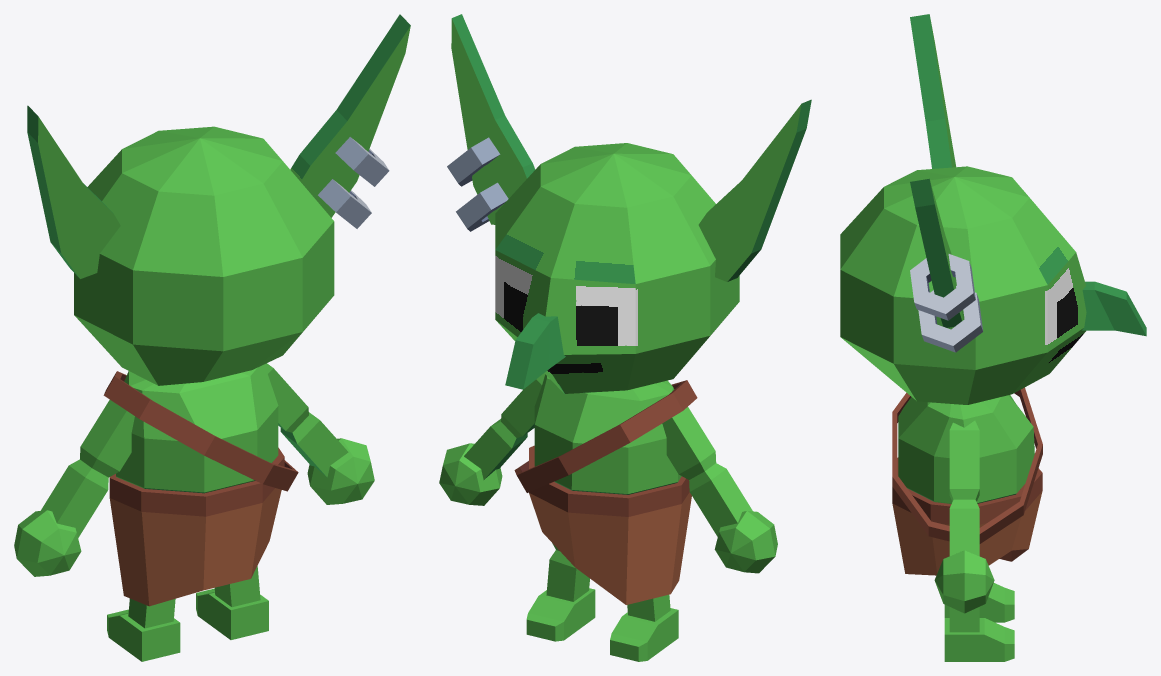
The model's file is goblin.gltf.
3 renders of one model, left to right at view 1: azimuth 30°, elevation 25°; view 2: azimuth 150°, elevation 25°; view 3: azimuth 270°, elevation 25°, orthographic. The views are drawn at different scales.
Visible parts, largest first — view 1: sphere (×4), skirt, cuboid (×8), cylinder (×2), belt, tube (×2); view 2: sphere (×4), cuboid (×9), cylinder (×2), skirt, belt, tube (×2); view 3: sphere (×3), cuboid (×6), cylinder (×2), skirt, tube (×2), belt.
Boxes of the visible parts, bbox=[...] form: sphere (×4): bbox=[14, 126, 374, 576]; skirt: bbox=[109, 447, 284, 606]; cuboid (×8): bbox=[40, 363, 348, 661]; cylinder (×2): bbox=[27, 14, 410, 278]; belt: bbox=[103, 371, 298, 491]; tube (×2): bbox=[318, 137, 389, 228]; sphere (×4): bbox=[439, 143, 777, 573]; cuboid (×9): bbox=[464, 313, 752, 661]; cylinder (×2): bbox=[451, 14, 811, 281]; skirt: bbox=[529, 445, 691, 604]; belt: bbox=[514, 380, 697, 492]; tube (×2): bbox=[447, 137, 508, 231]; sphere (×3): bbox=[840, 166, 1086, 613]; cuboid (×6): bbox=[944, 281, 1146, 661]; cylinder (×2): bbox=[910, 14, 962, 327]; skirt: bbox=[892, 457, 1042, 575]; tube (×2): bbox=[910, 254, 983, 352]; belt: bbox=[892, 387, 1042, 543].
Size of the model in its own units: 1.22 by 1.85 by 0.9563.
1 material, 1 textured.
